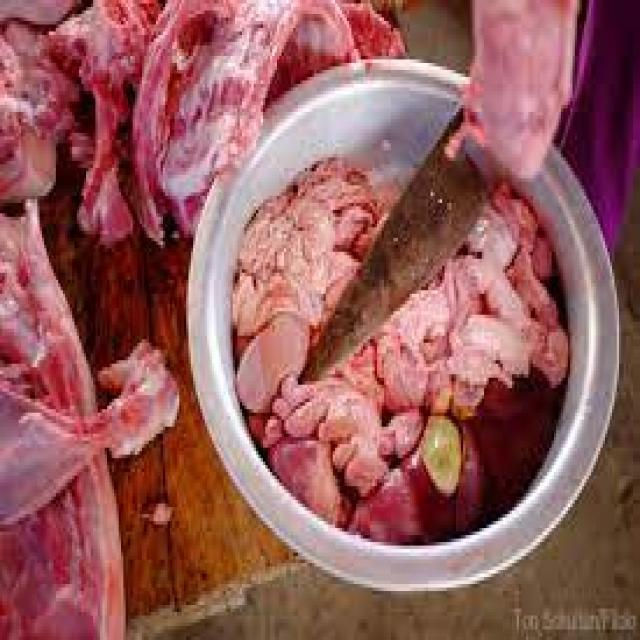Wet: (9, 20, 178, 624), (270, 200, 544, 474), (0, 331, 184, 534), (3, 5, 240, 152), (444, 0, 592, 206), (260, 227, 306, 450)
